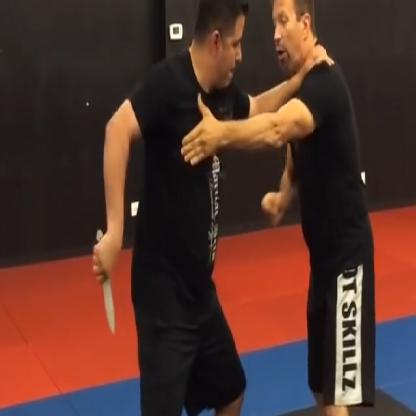knife: (90, 220, 124, 342)
